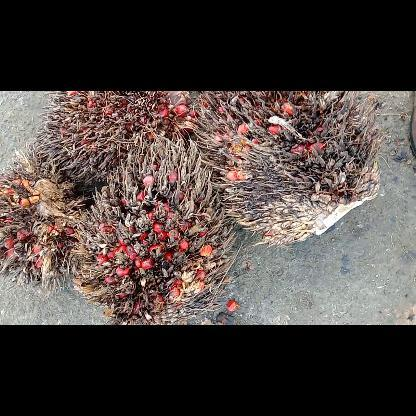Terlalu masak: (68, 144, 242, 324), (193, 90, 387, 250), (30, 91, 193, 195), (0, 142, 92, 298)
